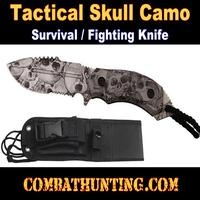knife: (4, 52, 178, 118)
